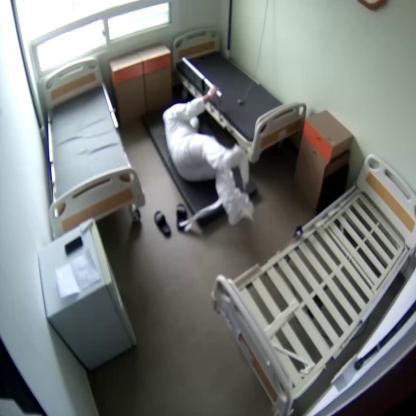Person: (162, 85, 250, 215)
